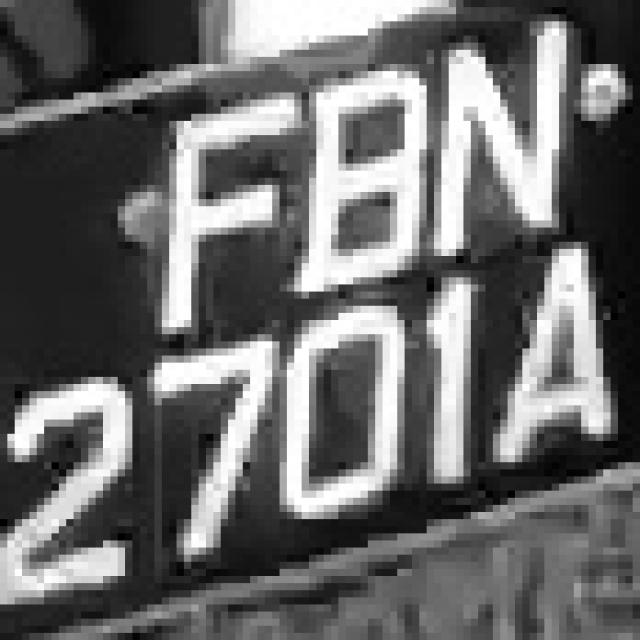0: (264, 306, 426, 540)
1: (419, 277, 478, 505)
2: (14, 342, 154, 612)
7: (140, 334, 287, 583)
A: (493, 249, 610, 483)
B: (287, 71, 434, 285)
F: (140, 78, 302, 320)
N: (434, 36, 574, 263)
